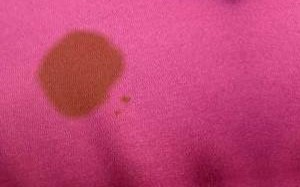stain: (37, 29, 130, 124), (120, 93, 133, 105), (113, 107, 123, 118)
